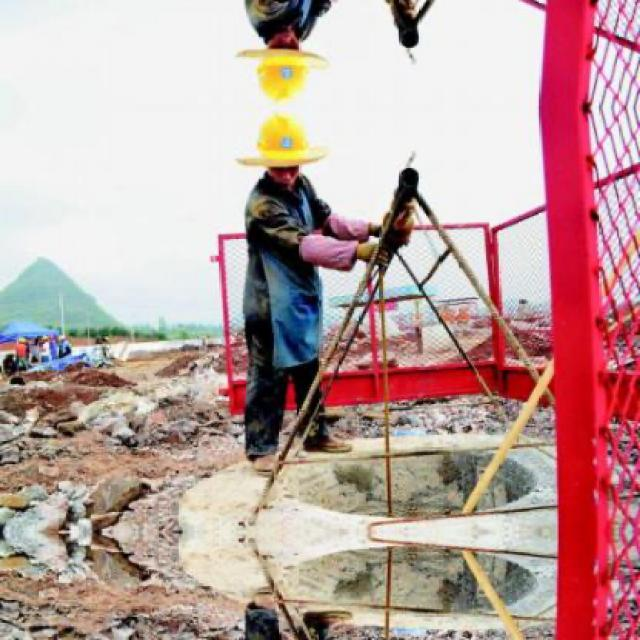helmet: (248, 108, 323, 194), (248, 22, 323, 108)
